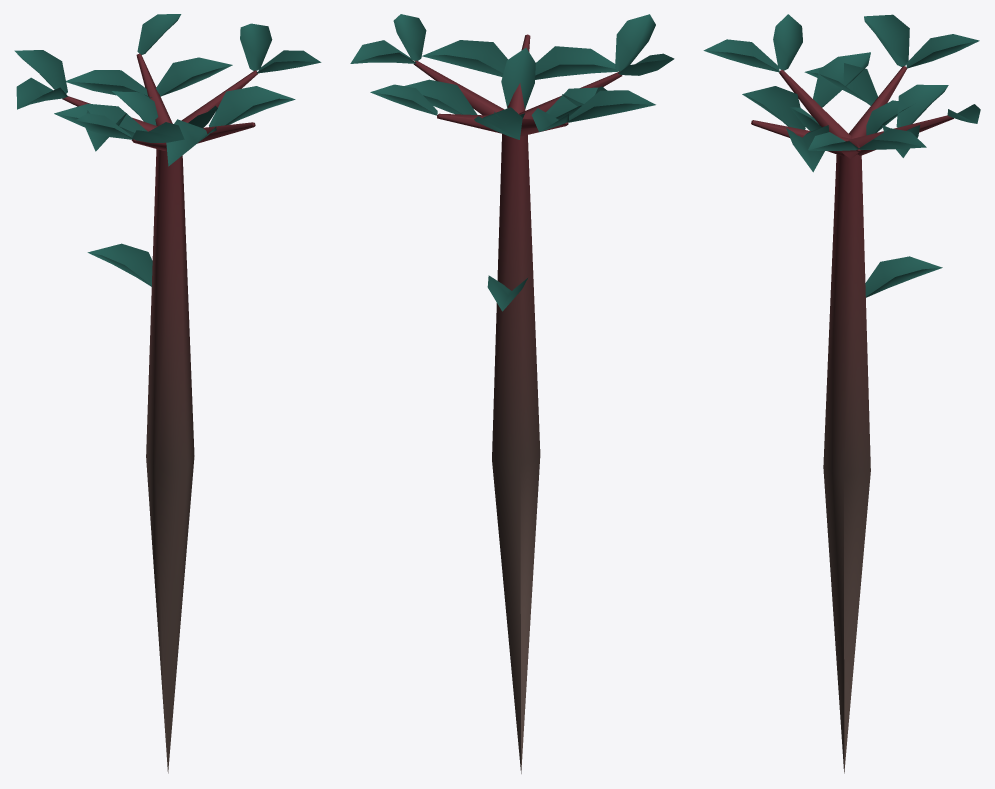
The model's file is plants-leafy-plants-tall-sprout_v5.glb.
The picture shows the model from 3 angles, left to right: view 1: azimuth 30°, elevation 25°; view 2: azimuth 150°, elevation 25°; view 3: azimuth 270°, elevation 25°; orthographic projection. The views are drawn at different scales.
Parts seen in each view (by area): view 1: Tall Sprout_v5; view 2: Tall Sprout_v5; view 3: Tall Sprout_v5.
Part boxes in pixels (x1,y1,x2,y2): Tall Sprout_v5: (14,14,321,773); Tall Sprout_v5: (350,14,674,773); Tall Sprout_v5: (703,14,980,773).
Bounding box in the file's own units: 0.3285 × 0.8 × 0.2867.
